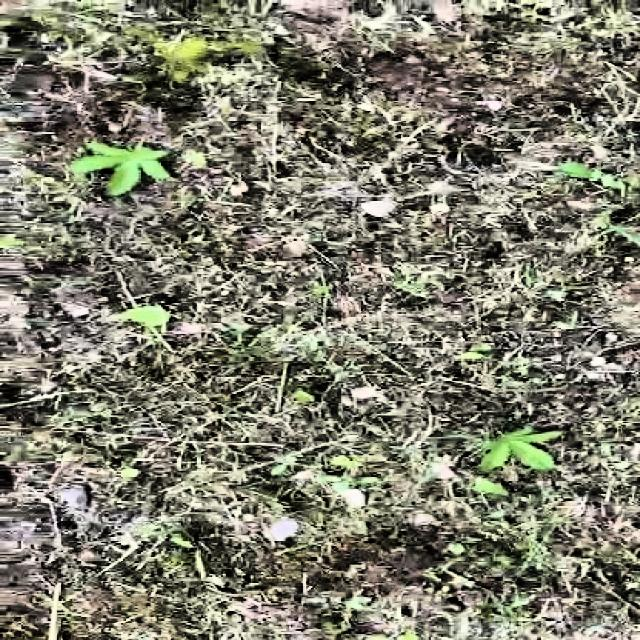Weeds: (71, 137, 169, 198), (478, 423, 564, 472)
